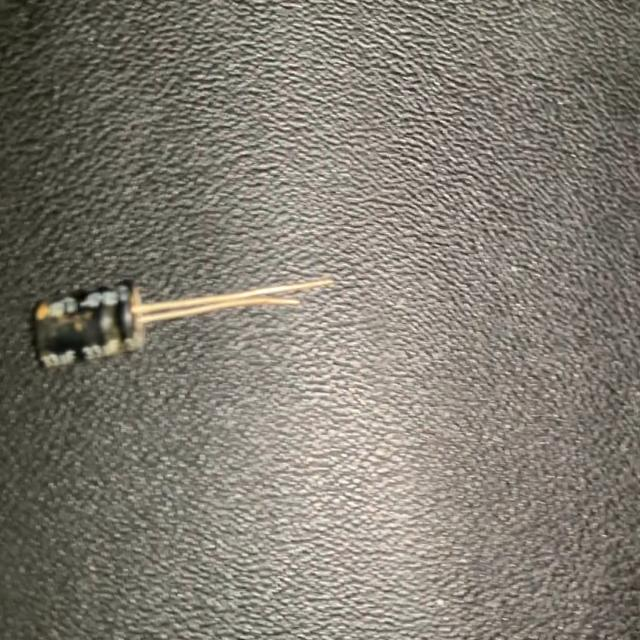capacitor: (28, 272, 332, 381)
rust: (34, 284, 94, 342)
